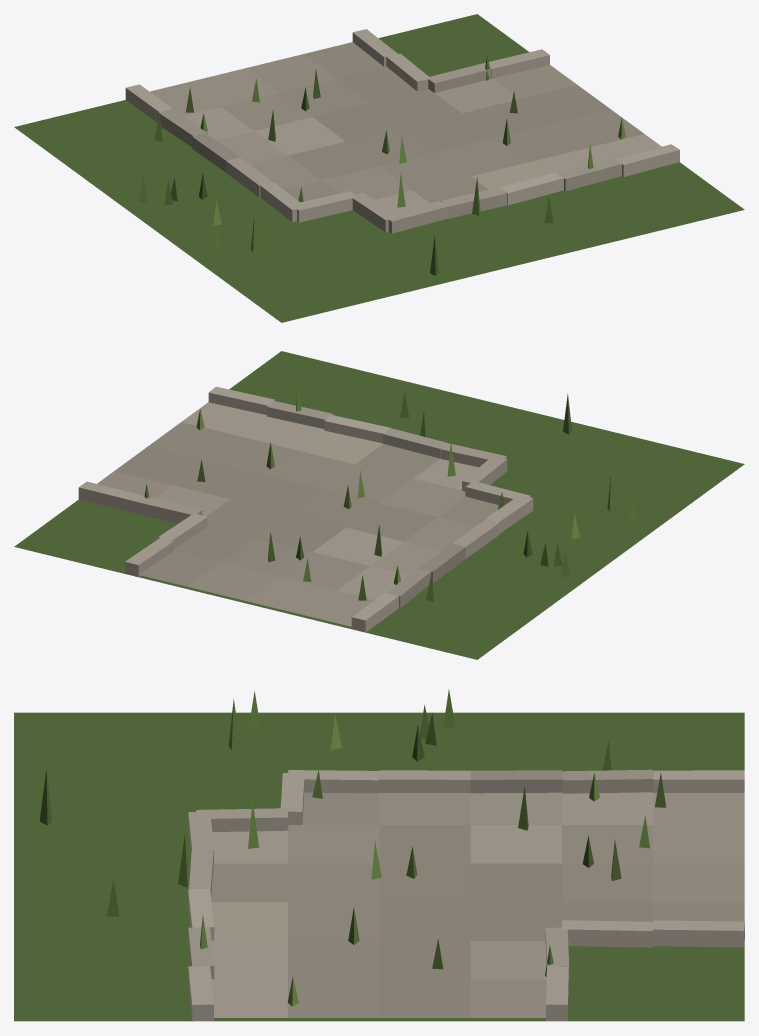
File: cobble-corner.glb
3 views of the same model, one above another, from view 1: azimuth 30°, elevation 25°; view 2: azimuth 150°, elevation 25°; view 3: azimuth 270°, elevation 25° (orthographic). The views are drawn at different scales.
Visible parts, largest first — view 1: ground/cobble-corner; view 2: ground/cobble-corner; view 3: ground/cobble-corner.
Boxes of the visible parts, x1,y1,x2,y2 form: ground/cobble-corner: (14, 14, 744, 322); ground/cobble-corner: (14, 351, 744, 659); ground/cobble-corner: (14, 689, 744, 1021).
Size of the model in its own units: 4 by 0.3265 by 4.
